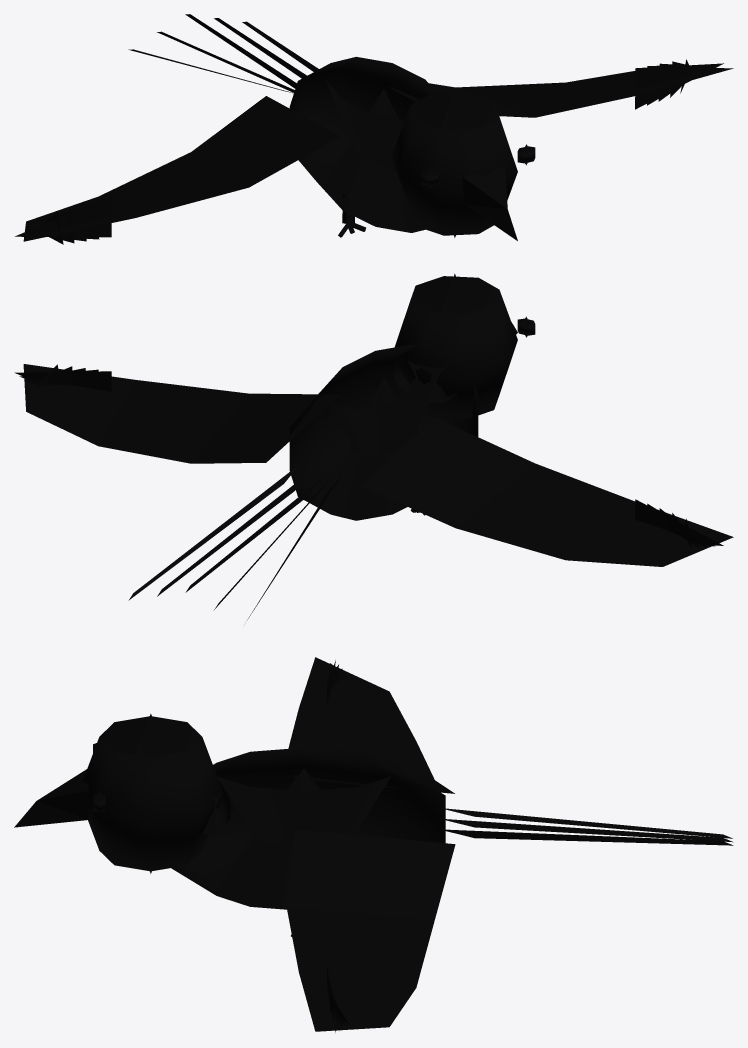
The model's file is gliding_07.glb.
3 renders of one model, top to bottom at view 1: azimuth 30°, elevation 25°; view 2: azimuth 150°, elevation 25°; view 3: azimuth 270°, elevation 25°, orthographic. The views are drawn at different scales.
Visible parts, largest first — view 1: RaptorBody; view 2: RaptorBody; view 3: RaptorBody.
Part boxes in pixels (x1=…): RaptorBody: x1=15, y1=14, x2=733, y2=244; RaptorBody: x1=14, y1=273, x2=733, y2=619; RaptorBody: x1=14, y1=657, x2=733, y2=1032.
Size of the model in its own units: 1.25 by 0.3153 by 1.01.
7 materials, 7 textured.
